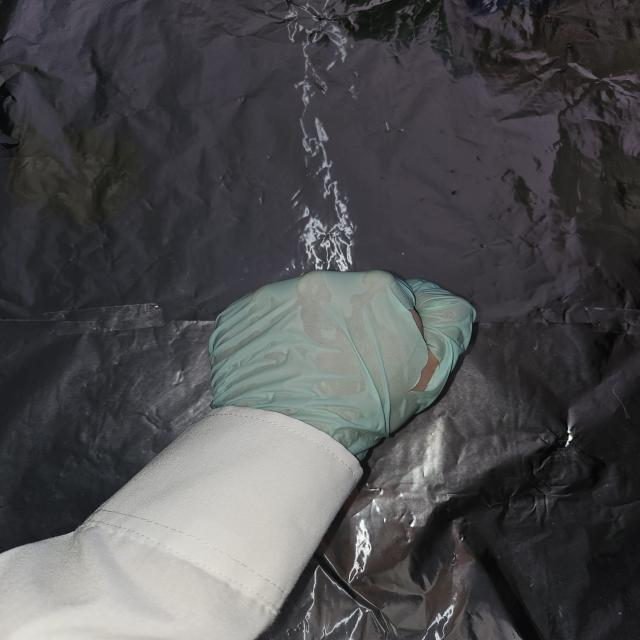gloves_damaged: (191, 269, 478, 470)
